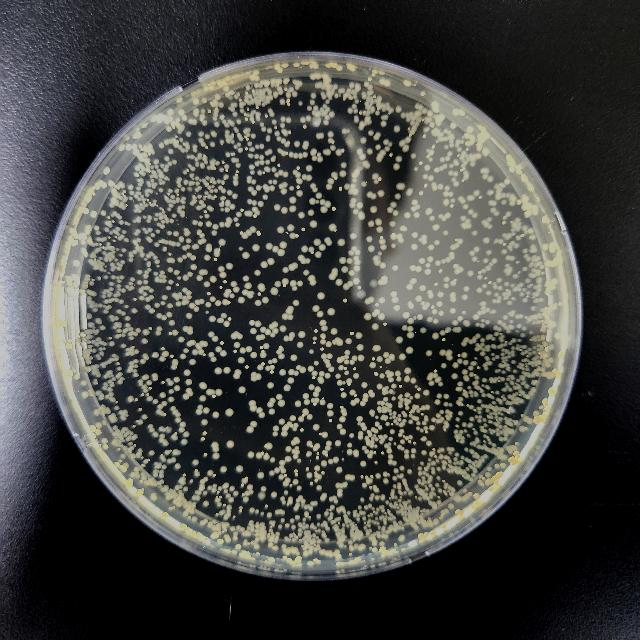colony: (356, 290, 366, 298), (372, 344, 382, 352), (478, 134, 487, 142), (170, 490, 178, 498), (289, 196, 297, 204), (108, 414, 116, 422), (432, 106, 440, 114), (482, 131, 490, 139), (352, 170, 360, 178), (112, 198, 120, 206), (548, 242, 556, 250), (462, 172, 470, 180), (437, 114, 445, 122), (313, 118, 321, 126), (431, 128, 439, 136), (406, 188, 414, 196), (150, 492, 158, 500), (84, 195, 92, 203), (212, 452, 220, 460), (129, 487, 137, 495), (542, 216, 550, 224), (467, 194, 475, 202), (210, 130, 218, 138), (265, 442, 273, 450), (258, 492, 266, 500), (482, 148, 490, 156), (369, 279, 377, 287), (396, 182, 404, 190), (90, 210, 98, 218), (250, 420, 258, 428), (246, 426, 254, 434), (199, 381, 207, 389), (482, 236, 490, 244), (226, 440, 234, 448), (225, 408, 233, 416), (358, 212, 366, 220), (324, 200, 332, 208), (310, 220, 318, 228), (329, 223, 337, 231), (349, 232, 357, 240), (338, 238, 346, 246), (313, 238, 321, 246), (277, 226, 285, 234), (238, 386, 246, 394), (262, 342, 270, 350), (223, 366, 231, 374), (214, 367, 222, 375), (312, 304, 320, 312), (316, 310, 324, 318), (238, 296, 246, 304), (254, 320, 262, 328), (274, 280, 282, 288), (270, 288, 278, 296), (242, 251, 250, 259), (252, 244, 260, 252), (218, 238, 226, 246), (320, 206, 328, 214), (277, 249, 285, 257), (242, 274, 250, 282), (244, 282, 252, 290), (226, 262, 234, 270), (406, 346, 414, 354), (398, 534, 406, 542), (345, 64, 355, 70), (542, 398, 548, 408), (225, 216, 232, 224), (469, 154, 476, 162), (370, 205, 378, 212), (522, 203, 530, 210), (170, 434, 178, 441), (165, 426, 172, 434), (66, 369, 74, 376), (235, 464, 242, 472), (425, 208, 433, 215), (339, 170, 346, 178), (392, 163, 400, 170), (248, 450, 255, 458), (377, 190, 385, 197), (308, 198, 316, 205), (289, 205, 297, 212), (318, 243, 326, 250), (223, 320, 230, 328), (272, 245, 280, 252), (277, 399, 285, 406), (326, 409, 334, 416), (388, 354, 396, 361), (356, 344, 364, 351), (404, 375, 411, 383), (398, 354, 406, 361), (215, 389, 222, 396), (183, 369, 190, 376), (464, 319, 471, 326), (407, 332, 415, 338), (510, 222, 518, 228), (272, 425, 280, 431), (396, 336, 402, 344), (352, 172, 358, 180), (216, 80, 224, 86), (529, 388, 535, 396), (366, 90, 374, 96), (193, 110, 199, 118), (188, 180, 194, 188), (421, 234, 427, 242), (158, 472, 164, 480), (356, 202, 364, 208), (110, 197, 118, 203), (545, 280, 551, 288), (414, 110, 422, 116), (378, 238, 386, 244), (552, 259, 560, 265), (544, 307, 552, 313), (546, 372, 554, 378), (172, 450, 180, 456), (550, 320, 556, 328), (112, 439, 120, 445), (372, 310, 378, 318), (296, 190, 304, 196), (390, 232, 396, 240), (481, 167, 489, 173), (211, 532, 219, 538), (488, 200, 496, 206), (178, 478, 186, 484), (530, 244, 536, 252), (192, 244, 200, 250), (508, 310, 516, 316), (548, 388, 556, 394), (458, 110, 466, 116), (280, 188, 288, 194), (323, 150, 331, 156), (448, 252, 456, 258), (206, 389, 214, 395), (90, 424, 96, 432), (110, 417, 118, 423), (336, 65, 344, 71), (462, 376, 470, 382), (403, 80, 411, 86), (524, 210, 530, 218), (363, 314, 371, 320), (126, 478, 134, 484), (118, 144, 124, 152), (528, 184, 534, 192), (134, 132, 142, 138), (142, 374, 150, 380), (310, 148, 316, 156), (384, 80, 392, 86), (392, 297, 400, 303), (486, 190, 494, 196), (432, 332, 438, 340), (372, 172, 378, 180), (404, 137, 412, 143), (352, 278, 360, 284), (364, 162, 370, 170), (378, 312, 384, 320), (402, 312, 410, 318), (330, 172, 338, 178), (402, 146, 410, 152), (443, 198, 449, 206), (432, 224, 440, 230), (390, 291, 398, 297), (404, 212, 412, 218), (143, 328, 149, 336), (192, 98, 200, 104), (329, 111, 335, 119), (406, 284, 414, 290), (180, 439, 188, 445), (394, 194, 402, 200), (418, 258, 426, 264), (486, 176, 494, 182), (398, 140, 406, 146), (182, 394, 190, 400), (152, 352, 160, 358), (284, 456, 292, 462), (192, 459, 200, 465), (168, 320, 176, 326), (220, 466, 228, 472), (306, 164, 312, 172), (361, 136, 367, 144), (212, 412, 220, 418), (368, 220, 374, 228), (320, 198, 326, 206), (282, 206, 288, 214), (274, 204, 280, 212), (258, 200, 264, 208), (288, 224, 294, 232), (314, 252, 322, 258), (312, 424, 320, 430), (303, 408, 309, 416), (290, 355, 298, 361), (296, 342, 304, 348), (298, 332, 306, 338), (330, 328, 338, 334), (280, 368, 286, 376), (288, 368, 294, 376), (300, 366, 306, 374), (288, 376, 294, 384), (284, 384, 290, 392), (250, 352, 258, 358), (278, 353, 286, 359), (220, 350, 228, 356), (250, 328, 258, 334), (265, 328, 271, 336), (292, 300, 300, 306), (319, 320, 327, 326), (320, 326, 328, 332), (262, 296, 268, 304), (254, 300, 262, 306), (220, 313, 228, 319), (248, 210, 254, 218), (266, 242, 272, 250), (279, 242, 287, 248), (250, 226, 256, 234), (242, 232, 248, 240), (254, 270, 262, 276), (260, 262, 268, 268), (267, 258, 275, 264), (230, 281, 238, 287), (298, 254, 304, 262), (234, 369, 242, 375), (295, 400, 301, 408), (258, 412, 266, 418), (257, 406, 263, 414), (250, 406, 258, 412), (248, 400, 256, 406), (314, 473, 322, 479), (334, 440, 342, 446), (338, 416, 346, 422), (356, 416, 364, 422), (376, 356, 384, 362), (384, 358, 392, 364), (358, 354, 364, 362), (422, 390, 430, 396), (404, 368, 412, 374), (526, 418, 534, 424), (555, 370, 561, 378), (222, 298, 228, 306), (426, 349, 432, 356), (479, 128, 486, 134), (509, 195, 516, 201), (550, 245, 556, 252), (349, 66, 356, 72), (183, 503, 190, 509), (78, 233, 85, 239), (508, 160, 514, 167), (399, 226, 406, 232), (175, 97, 182, 103), (354, 265, 361, 271), (379, 78, 385, 85), (394, 305, 401, 311), (474, 190, 481, 196), (419, 285, 426, 291), (542, 243, 548, 250), (409, 278, 416, 284), (328, 178, 334, 185), (379, 263, 386, 269), (104, 168, 110, 175), (178, 109, 185, 115), (190, 359, 197, 365), (359, 154, 366, 160), (185, 379, 192, 385), (389, 202, 396, 208), (439, 349, 445, 356), (200, 395, 207, 401), (394, 126, 401, 132), (308, 210, 314, 217), (302, 245, 308, 252), (319, 333, 326, 339), (238, 357, 245, 363), (256, 374, 262, 381), (218, 317, 225, 323), (246, 230, 252, 237), (339, 258, 346, 264), (233, 286, 240, 292), (233, 342, 240, 348), (369, 362, 376, 368), (474, 493, 481, 499), (219, 81, 225, 87), (179, 493, 185, 499), (376, 102, 382, 108), (141, 376, 147, 382), (145, 159, 151, 165), (314, 465, 320, 471), (138, 182, 144, 188), (434, 378, 440, 384), (80, 342, 86, 348), (468, 418, 474, 424), (426, 118, 432, 124), (161, 486, 167, 492), (438, 136, 444, 142), (152, 376, 158, 382), (90, 300, 96, 306), (496, 398, 502, 404), (110, 378, 116, 384), (180, 124, 186, 130), (356, 332, 362, 338), (224, 534, 230, 540), (87, 258, 93, 264), (320, 92, 326, 98), (454, 452, 460, 458), (224, 522, 230, 528), (412, 126, 418, 132), (523, 416, 529, 422), (342, 266, 348, 272), (292, 448, 298, 454), (519, 426, 525, 432), (153, 472, 159, 478), (120, 204, 126, 210), (248, 521, 254, 527), (472, 468, 478, 474), (384, 102, 390, 108), (525, 256, 531, 262), (173, 139, 179, 145), (294, 450, 300, 456), (424, 118, 430, 124), (531, 255, 537, 261), (506, 266, 512, 272), (328, 138, 334, 144), (138, 155, 144, 161), (487, 466, 493, 472), (465, 219, 471, 225), (551, 260, 557, 266), (184, 228, 190, 234), (210, 158, 216, 164), (197, 152, 203, 158), (526, 203, 532, 209), (144, 146, 150, 152), (152, 468, 158, 474), (148, 477, 154, 483), (294, 437, 300, 443), (92, 369, 98, 375), (164, 196, 170, 202), (128, 441, 134, 447), (147, 144, 153, 150), (68, 287, 74, 293), (114, 356, 120, 362), (191, 254, 197, 260), (142, 475, 148, 481), (245, 530, 251, 536), (229, 121, 235, 127), (260, 536, 266, 542), (173, 142, 179, 148), (228, 106, 234, 112), (130, 472, 136, 478), (179, 126, 185, 132), (82, 284, 88, 290), (98, 180, 104, 186), (270, 78, 276, 84), (295, 172, 301, 178), (169, 488, 175, 494), (276, 86, 282, 92), (66, 276, 72, 282), (325, 78, 331, 84), (263, 184, 269, 190), (128, 326, 134, 332), (242, 478, 248, 484), (239, 102, 245, 108), (480, 168, 486, 174), (262, 194, 268, 200), (432, 102, 438, 108), (117, 372, 123, 378), (469, 135, 475, 141), (409, 112, 415, 118), (119, 288, 125, 294), (281, 130, 287, 136), (352, 188, 358, 194), (121, 415, 127, 421), (370, 107, 376, 113), (142, 153, 148, 159), (110, 413, 116, 419), (284, 522, 290, 528), (376, 219, 382, 225), (532, 204, 538, 210), (456, 386, 462, 392), (288, 496, 294, 502), (84, 274, 90, 280), (106, 304, 112, 310), (104, 220, 110, 226), (219, 202, 225, 208), (498, 238, 504, 244), (518, 398, 524, 404), (545, 288, 551, 294), (530, 268, 536, 274), (182, 326, 188, 332), (123, 426, 129, 432), (264, 81, 270, 87), (366, 236, 372, 242), (528, 272, 534, 278), (166, 494, 172, 500), (375, 132, 381, 138), (156, 409, 162, 415), (200, 478, 206, 484), (79, 332, 85, 338), (170, 258, 176, 264), (146, 236, 152, 242), (202, 490, 208, 496), (189, 508, 195, 514), (232, 102, 238, 108), (186, 341, 192, 347), (115, 184, 121, 190), (166, 458, 172, 464), (368, 246, 374, 252), (198, 138, 204, 144), (550, 284, 556, 290), (422, 304, 428, 310), (231, 158, 237, 164), (254, 76, 260, 82), (188, 390, 194, 396), (536, 278, 542, 284), (365, 116, 371, 122), (510, 240, 516, 246), (486, 334, 492, 340), (436, 376, 442, 382), (528, 262, 534, 268), (100, 410, 106, 416), (558, 352, 564, 358), (536, 360, 542, 366), (316, 193, 322, 199), (456, 326, 462, 332), (208, 206, 214, 212), (182, 254, 188, 260), (418, 104, 424, 110), (312, 63, 318, 69), (353, 117, 359, 123), (315, 82, 321, 88), (476, 145, 482, 151), (199, 485, 205, 491), (355, 84, 361, 90), (473, 380, 479, 386), (94, 364, 100, 370), (375, 260, 381, 266), (381, 244, 387, 250), (509, 200, 515, 206), (476, 310, 482, 316), (268, 542, 274, 548), (326, 84, 332, 90), (516, 168, 522, 174), (402, 324, 408, 330), (530, 387, 536, 393), (369, 296, 375, 302), (164, 118, 170, 124), (458, 196, 464, 202), (458, 267, 464, 273), (80, 240, 86, 246), (102, 420, 108, 426), (436, 120, 442, 126), (533, 410, 539, 416), (298, 153, 304, 159), (212, 230, 218, 236), (194, 109, 200, 115), (323, 73, 329, 79), (116, 366, 122, 372), (407, 325, 413, 331), (90, 252, 96, 258), (454, 268, 460, 274), (532, 210, 538, 216), (212, 100, 218, 106), (182, 510, 188, 516), (316, 73, 322, 79), (349, 270, 355, 276), (135, 165, 141, 171), (200, 163, 206, 169), (324, 114, 330, 120), (217, 538, 223, 544), (254, 544, 260, 550), (456, 400, 462, 406), (143, 353, 149, 359), (138, 288, 144, 294), (72, 274, 78, 280), (224, 92, 230, 98), (453, 160, 459, 166), (450, 198, 456, 204), (249, 146, 255, 152), (148, 423, 154, 429), (508, 324, 514, 330), (382, 276, 388, 282), (408, 303, 414, 309), (468, 404, 474, 410), (377, 279, 383, 285), (230, 204, 236, 210), (138, 379, 144, 385), (118, 182, 124, 188), (154, 276, 160, 282), (544, 260, 550, 266), (274, 64, 280, 70), (488, 377, 494, 383), (270, 185, 276, 191), (288, 152, 294, 158), (116, 266, 122, 272), (264, 150, 270, 156), (224, 122, 230, 128), (525, 278, 531, 284), (156, 326, 162, 332), (499, 183, 505, 189), (238, 136, 244, 142), (502, 314, 508, 320), (236, 524, 242, 530), (180, 421, 186, 427), (425, 269, 431, 275), (244, 490, 250, 496), (417, 314, 423, 320), (74, 374, 80, 380), (338, 88, 344, 94), (277, 78, 283, 84), (365, 298, 371, 304), (152, 373, 158, 379), (264, 454, 270, 460), (88, 280, 94, 286), (278, 68, 284, 74), (186, 252, 192, 258), (390, 221, 396, 227), (476, 153, 482, 159), (233, 180, 239, 186), (188, 119, 194, 125), (159, 426, 165, 432), (450, 244, 456, 250), (224, 174, 230, 180), (482, 174, 488, 180), (174, 270, 180, 276), (461, 223, 467, 229), (274, 172, 280, 178), (73, 240, 79, 246), (388, 142, 394, 148), (303, 140, 309, 146), (213, 446, 219, 452), (226, 504, 232, 510), (220, 510, 226, 516), (284, 78, 290, 84), (136, 452, 142, 458), (387, 207, 393, 213), (144, 296, 150, 302), (187, 186, 193, 192), (306, 472, 312, 478), (290, 440, 296, 446), (523, 196, 529, 202), (436, 301, 442, 307), (94, 409, 100, 415), (306, 116, 312, 122), (150, 232, 156, 238), (200, 108, 206, 114), (270, 156, 276, 162), (156, 330, 162, 336), (302, 144, 308, 150), (200, 142, 206, 148), (173, 330, 179, 336), (278, 474, 284, 480), (138, 419, 144, 425), (197, 404, 203, 410), (134, 150, 140, 156), (180, 212, 186, 218), (186, 238, 192, 244), (103, 444, 109, 450), (266, 512, 272, 518), (429, 122, 435, 128), (250, 170, 256, 176), (410, 265, 416, 271), (109, 202, 115, 208), (279, 460, 285, 466), (134, 466, 140, 472), (326, 184, 332, 190), (134, 172, 140, 178), (190, 166, 196, 172), (416, 296, 422, 302), (105, 408, 111, 414), (367, 192, 373, 198), (163, 484, 169, 490), (96, 230, 102, 236), (212, 442, 218, 448), (356, 148, 362, 154), (96, 429, 102, 435), (147, 396, 153, 402), (292, 454, 298, 460), (228, 496, 234, 502), (407, 318, 413, 324), (450, 292, 456, 298), (157, 404, 163, 410), (458, 238, 464, 244), (341, 128, 347, 134), (99, 404, 105, 410), (285, 92, 291, 98), (86, 366, 92, 372), (284, 142, 290, 148), (141, 414, 147, 420), (349, 82, 355, 88), (175, 417, 181, 423), (552, 278, 558, 284), (522, 266, 528, 272), (438, 184, 444, 190), (486, 216, 492, 222), (154, 242, 160, 248), (104, 226, 110, 232), (446, 350, 452, 356), (132, 144, 138, 150), (223, 482, 229, 488), (212, 224, 218, 230), (453, 110, 459, 116), (95, 390, 101, 396), (462, 204, 468, 210), (540, 334, 546, 340), (422, 108, 428, 114), (178, 236, 184, 242), (530, 234, 536, 240), (140, 358, 146, 364), (376, 156, 382, 162), (379, 150, 385, 156), (522, 248, 528, 254), (116, 308, 122, 314), (528, 228, 534, 234), (251, 190, 257, 196), (520, 332, 526, 338), (278, 90, 284, 96), (392, 264, 398, 270), (168, 380, 174, 386), (509, 166, 515, 172), (164, 449, 170, 455), (224, 86, 230, 92), (516, 199, 522, 205), (460, 215, 466, 221), (200, 114, 206, 120), (468, 372, 474, 378), (126, 144, 132, 150), (154, 302, 160, 308), (306, 106, 312, 112), (146, 380, 152, 386), (215, 94, 221, 100), (463, 359, 469, 365), (373, 135, 379, 141), (554, 333, 560, 339), (486, 290, 492, 296), (172, 359, 178, 365), (206, 221, 212, 227), (112, 424, 118, 430), (344, 184, 350, 190), (311, 156, 317, 162), (283, 172, 289, 178), (280, 138, 286, 144), (438, 291, 444, 297), (306, 175, 312, 181), (393, 210, 399, 216), (427, 110, 433, 116), (445, 212, 451, 218), (84, 208, 90, 214), (149, 308, 155, 314), (296, 178, 302, 184), (486, 250, 492, 256), (108, 180, 114, 186), (374, 110, 380, 116), (247, 186, 253, 192), (166, 230, 172, 236), (162, 246, 168, 252), (310, 74, 316, 80), (285, 446, 291, 452), (400, 112, 406, 118), (457, 316, 463, 322), (74, 260, 80, 266), (88, 322, 94, 328), (160, 300, 166, 306), (384, 146, 390, 152), (171, 364, 177, 370), (271, 492, 277, 498), (182, 115, 188, 121), (164, 156, 170, 162), (204, 134, 210, 140), (506, 154, 512, 160), (162, 351, 168, 357), (424, 165, 430, 171), (164, 139, 170, 145), (178, 336, 184, 342), (450, 280, 456, 286), (416, 266, 422, 272), (166, 312, 172, 318), (412, 232, 418, 238), (474, 246, 480, 252), (202, 120, 208, 126), (379, 297, 385, 303), (260, 486, 266, 492), (438, 310, 444, 316), (145, 304, 151, 310), (82, 392, 88, 398), (434, 240, 440, 246), (461, 352, 467, 358), (149, 450, 155, 456), (276, 136, 282, 142), (249, 164, 255, 170), (196, 408, 202, 414), (464, 133, 470, 139), (472, 212, 478, 218), (372, 323, 378, 329), (413, 212, 419, 218), (280, 122, 286, 128), (128, 184, 134, 190), (81, 380, 87, 386), (492, 258, 498, 264), (448, 170, 454, 176), (162, 294, 168, 300), (302, 152, 308, 158), (450, 123, 456, 129), (381, 121, 387, 127), (428, 244, 434, 250), (467, 126, 473, 132), (101, 210, 107, 216), (162, 400, 168, 406), (256, 452, 262, 458), (163, 440, 169, 446), (227, 190, 233, 196), (412, 244, 418, 250), (166, 126, 172, 132), (142, 338, 148, 344), (207, 470, 213, 476), (159, 143, 165, 149), (160, 356, 166, 362), (192, 220, 198, 226), (472, 256, 478, 262), (462, 294, 468, 300), (269, 470, 275, 476), (218, 102, 224, 108), (280, 116, 286, 122), (168, 396, 174, 402), (310, 93, 316, 99), (256, 185, 262, 191), (323, 120, 329, 126), (96, 318, 102, 324), (210, 142, 216, 148), (132, 308, 138, 314), (450, 308, 456, 314), (180, 353, 186, 359), (330, 145, 336, 151), (174, 385, 180, 391), (473, 314, 479, 320), (347, 108, 353, 114), (328, 131, 334, 137), (294, 141, 300, 147), (440, 330, 446, 336), (468, 209, 474, 215), (427, 256, 433, 262), (341, 162, 347, 168), (452, 320, 458, 326), (444, 276, 450, 282), (96, 422, 102, 428), (472, 230, 478, 236), (128, 396, 134, 402), (174, 376, 180, 382), (336, 150, 342, 156), (504, 179, 510, 185), (469, 250, 475, 256), (183, 431, 189, 437), (464, 286, 470, 292), (368, 130, 374, 136), (396, 106, 402, 112), (452, 373, 458, 379), (201, 419, 207, 425), (452, 362, 458, 368), (467, 270, 473, 276), (203, 407, 209, 413), (258, 472, 264, 478), (396, 156, 402, 162), (300, 117, 306, 123), (160, 392, 166, 398), (168, 148, 174, 154), (353, 209, 359, 215), (298, 212, 304, 218), (252, 200, 258, 206), (252, 207, 258, 213), (309, 246, 315, 252), (289, 233, 295, 239), (337, 423, 343, 429), (340, 428, 346, 434), (322, 432, 328, 438), (307, 414, 313, 420), (298, 416, 304, 422), (290, 415, 296, 421), (279, 418, 285, 424), (307, 440, 313, 446), (321, 460, 327, 466), (328, 458, 334, 464), (333, 457, 339, 463), (326, 341, 332, 347), (312, 370, 318, 376), (308, 366, 314, 372), (319, 371, 325, 377), (325, 373, 331, 379), (328, 366, 334, 372), (321, 353, 327, 359), (338, 365, 344, 371), (337, 380, 343, 386), (341, 392, 347, 398), (350, 390, 356, 396), (198, 349, 204, 355), (294, 370, 300, 376), (296, 364, 302, 370), (268, 382, 274, 388), (258, 364, 264, 370), (272, 358, 278, 364), (240, 347, 246, 353), (246, 346, 252, 352), (260, 352, 266, 358), (211, 356, 217, 362), (209, 352, 215, 358), (216, 346, 222, 352), (270, 364, 276, 370), (251, 376, 257, 382), (283, 336, 289, 342), (260, 327, 266, 333), (260, 334, 266, 340), (280, 326, 286, 332), (282, 314, 288, 320), (288, 314, 294, 320), (249, 320, 255, 326), (282, 278, 288, 284), (290, 280, 296, 286), (297, 281, 303, 287), (292, 286, 298, 292), (204, 255, 210, 261), (225, 222, 231, 228), (362, 160, 368, 166), (349, 202, 355, 208), (324, 237, 330, 243), (326, 240, 332, 246), (303, 270, 309, 276), (282, 267, 288, 273), (242, 289, 248, 295), (300, 258, 306, 264), (272, 322, 278, 328), (268, 323, 274, 329), (270, 332, 276, 338), (272, 328, 278, 334), (277, 394, 283, 400), (304, 399, 310, 405), (303, 393, 309, 399), (327, 403, 333, 409), (320, 399, 326, 405), (315, 386, 321, 392), (309, 384, 315, 390), (270, 398, 276, 404), (268, 402, 274, 408), (269, 409, 275, 415), (300, 502, 306, 508), (342, 482, 348, 488), (336, 467, 342, 473), (345, 474, 351, 480), (350, 475, 356, 481), (347, 449, 353, 455), (383, 478, 389, 484), (375, 473, 381, 479), (360, 461, 366, 467), (382, 471, 388, 477), (364, 448, 370, 454), (326, 440, 332, 446), (340, 408, 346, 414), (374, 421, 380, 427), (370, 426, 376, 432), (386, 448, 392, 454), (351, 400, 357, 406), (377, 383, 383, 389), (380, 494, 386, 500), (346, 378, 352, 384), (344, 370, 350, 376), (362, 382, 368, 388), (383, 352, 389, 358), (346, 338, 352, 344), (337, 357, 343, 363), (388, 377, 394, 383), (303, 550, 309, 556), (410, 378, 416, 384), (429, 425, 435, 431), (426, 440, 432, 446), (414, 393, 420, 399), (404, 392, 410, 398), (404, 448, 410, 454), (414, 416, 420, 422), (402, 412, 408, 418), (466, 458, 472, 464), (396, 376, 402, 382), (395, 371, 401, 377), (500, 462, 506, 468), (513, 450, 519, 456), (448, 503, 454, 509), (498, 436, 504, 442), (212, 336, 218, 342), (209, 332, 215, 338), (186, 290, 192, 296), (195, 300, 201, 306), (294, 514, 300, 520), (360, 543, 366, 549), (366, 110, 372, 116), (322, 103, 328, 109), (226, 75, 232, 81), (186, 313, 192, 319), (194, 306, 200, 312), (189, 303, 195, 309), (506, 192, 510, 200), (212, 391, 216, 399), (370, 90, 374, 98), (308, 64, 316, 68), (330, 64, 338, 68), (376, 228, 384, 232), (372, 256, 380, 260), (380, 116, 388, 120), (312, 392, 320, 396), (546, 405, 550, 413), (354, 542, 358, 550), (224, 513, 232, 517), (424, 128, 431, 132), (233, 374, 240, 378), (354, 557, 361, 561), (522, 288, 528, 292), (469, 449, 475, 453), (148, 252, 154, 256), (352, 246, 356, 252), (270, 82, 276, 86), (444, 424, 450, 428), (350, 250, 354, 256), (540, 328, 546, 332), (488, 262, 494, 266), (516, 384, 520, 390), (176, 450, 182, 454), (210, 84, 214, 90), (485, 472, 491, 476), (126, 348, 130, 354), (189, 155, 195, 159), (198, 200, 204, 204), (90, 336, 94, 342), (240, 527, 244, 533), (427, 148, 431, 154), (462, 162, 468, 166), (137, 196, 141, 202), (284, 536, 288, 542), (194, 162, 200, 166), (482, 363, 488, 367), (102, 385, 108, 389), (86, 330, 92, 334), (410, 129, 414, 135), (222, 509, 228, 513), (291, 524, 295, 530), (459, 460, 463, 466), (147, 190, 153, 194), (320, 107, 324, 113), (88, 240, 92, 246), (544, 314, 550, 318), (502, 192, 506, 198), (348, 88, 352, 94), (145, 480, 149, 486), (144, 458, 148, 464), (144, 194, 150, 198), (118, 202, 124, 206), (128, 332, 134, 336), (99, 302, 103, 308), (68, 278, 72, 284), (532, 370, 538, 374), (106, 242, 112, 246), (474, 392, 480, 396), (226, 538, 232, 542), (190, 200, 194, 206), (94, 264, 98, 270), (382, 106, 386, 112), (366, 104, 370, 110), (462, 488, 468, 492), (444, 137, 450, 141), (484, 344, 490, 348), (462, 392, 468, 396), (410, 120, 414, 126), (180, 524, 186, 528), (260, 524, 266, 528), (154, 462, 160, 466), (196, 533, 202, 537), (439, 132, 443, 138), (270, 520, 274, 526), (444, 409, 450, 413), (236, 212, 242, 216), (506, 234, 512, 238), (397, 234, 403, 238), (161, 238, 165, 244), (94, 342, 100, 346), (533, 284, 537, 290), (542, 324, 546, 330), (158, 114, 164, 118), (260, 522, 266, 526), (102, 290, 108, 294), (161, 458, 167, 462), (119, 410, 123, 416), (432, 182, 436, 188), (290, 518, 294, 524), (112, 432, 118, 436), (152, 116, 156, 122), (306, 452, 312, 456), (208, 186, 212, 192), (104, 298, 108, 304), (134, 230, 138, 236), (224, 134, 230, 138), (108, 388, 114, 392), (88, 304, 94, 308), (432, 374, 438, 378), (130, 350, 134, 356), (247, 178, 251, 184), (124, 136, 130, 140), (230, 90, 234, 96), (354, 260, 360, 264), (246, 176, 252, 180), (510, 374, 514, 380), (86, 226, 92, 230), (498, 286, 504, 290), (107, 292, 111, 298), (300, 499, 306, 503), (206, 244, 212, 248), (273, 92, 279, 96), (218, 185, 224, 189), (116, 329, 122, 333), (519, 376, 525, 380), (364, 101, 370, 105), (158, 174, 164, 178), (352, 179, 358, 183), (446, 156, 450, 162), (130, 446, 134, 452), (112, 212, 118, 216), (162, 278, 166, 284), (350, 198, 356, 202), (458, 480, 462, 486), (298, 495, 304, 499), (164, 512, 168, 518), (130, 190, 134, 196), (192, 494, 196, 500), (378, 152, 382, 158), (172, 410, 178, 414), (195, 490, 201, 494), (132, 250, 138, 254), (208, 522, 212, 528), (380, 70, 384, 76), (243, 130, 249, 134), (108, 222, 112, 228), (192, 502, 196, 508), (468, 422, 472, 428), (212, 526, 218, 530), (495, 196, 501, 200), (518, 292, 524, 296), (172, 292, 176, 298), (513, 286, 517, 292), (462, 150, 466, 156), (194, 472, 200, 476), (66, 344, 72, 348), (136, 187, 142, 191), (388, 108, 394, 112), (366, 120, 372, 124), (474, 438, 480, 442), (274, 510, 280, 514), (356, 250, 360, 256), (88, 390, 94, 394), (282, 64, 288, 68), (531, 380, 537, 384), (254, 70, 260, 74), (204, 176, 210, 180), (522, 226, 528, 230), (202, 238, 206, 244), (420, 301, 426, 305), (348, 190, 354, 194), (129, 336, 135, 340), (194, 176, 200, 180), (414, 122, 420, 126), (144, 274, 148, 280), (302, 174, 306, 180), (92, 292, 98, 296), (466, 224, 472, 228), (200, 520, 204, 526), (174, 190, 180, 194), (138, 490, 144, 494), (170, 242, 176, 246), (552, 369, 558, 373), (126, 322, 130, 328), (362, 94, 366, 100), (446, 256, 450, 262), (62, 322, 68, 326), (86, 360, 92, 364), (454, 244, 460, 248), (182, 246, 188, 250), (152, 255, 158, 259), (170, 195, 176, 199), (236, 544, 242, 548), (92, 380, 98, 384), (122, 468, 128, 472), (250, 76, 256, 80), (146, 262, 152, 266), (157, 118, 163, 122), (128, 361, 134, 365), (110, 382, 114, 388), (266, 136, 270, 142), (134, 474, 140, 478), (135, 230, 141, 234), (491, 336, 495, 342), (521, 176, 527, 180), (137, 218, 141, 224), (184, 232, 190, 236), (168, 204, 174, 208), (316, 133, 320, 139), (94, 330, 100, 334), (282, 482, 288, 486), (115, 316, 119, 322), (480, 301, 486, 305), (224, 130, 230, 134), (256, 536, 260, 542), (493, 238, 497, 244), (212, 519, 218, 523), (186, 144, 190, 150), (230, 526, 236, 530), (154, 260, 160, 264), (167, 118, 173, 122), (390, 244, 396, 248), (182, 170, 188, 174), (488, 224, 492, 230), (281, 432, 287, 436), (449, 136, 455, 140), (142, 384, 146, 390), (233, 144, 237, 150), (192, 120, 198, 124), (472, 336, 476, 342), (204, 518, 208, 524), (442, 164, 448, 168), (374, 310, 380, 314), (504, 263, 510, 267), (146, 254, 152, 258), (230, 486, 236, 490), (316, 153, 322, 157), (426, 290, 432, 294), (490, 309, 496, 313), (334, 94, 340, 98), (313, 106, 319, 110), (148, 228, 154, 232), (105, 394, 109, 400), (462, 198, 466, 204), (139, 296, 145, 300), (178, 256, 182, 262), (200, 232, 204, 238), (142, 292, 148, 296), (224, 208, 230, 212), (326, 106, 330, 112), (204, 86, 208, 92), (510, 360, 516, 364), (174, 486, 180, 490), (368, 85, 372, 91), (310, 184, 316, 188), (430, 150, 434, 156), (322, 94, 326, 100), (222, 118, 226, 124), (420, 328, 426, 332), (453, 182, 459, 186), (132, 240, 138, 244), (452, 328, 458, 332), (292, 170, 298, 174), (474, 376, 480, 380), (100, 364, 106, 368), (278, 184, 284, 188), (481, 220, 487, 224), (462, 370, 468, 374), (114, 335, 120, 339), (212, 117, 218, 121), (458, 396, 462, 402), (192, 350, 198, 354), (542, 342, 548, 346), (274, 468, 280, 472), (248, 520, 254, 524), (414, 104, 420, 108), (296, 486, 302, 490), (358, 126, 364, 130), (147, 218, 151, 224), (192, 148, 198, 152), (488, 360, 492, 366), (548, 358, 554, 362), (98, 396, 104, 400), (248, 199, 252, 205), (122, 410, 128, 414), (167, 304, 173, 308), (436, 394, 442, 398), (398, 238, 404, 242), (166, 286, 172, 290), (220, 222, 224, 228), (463, 338, 469, 342), (504, 256, 510, 260), (482, 378, 488, 382), (267, 150, 273, 154), (470, 362, 476, 366), (514, 244, 520, 248), (140, 253, 146, 257), (218, 168, 224, 172), (480, 322, 484, 328), (179, 428, 185, 432), (137, 270, 143, 274), (176, 242, 182, 246), (92, 308, 98, 312), (196, 230, 202, 234), (254, 82, 258, 88), (170, 406, 176, 410), (412, 206, 416, 212), (494, 212, 500, 216), (292, 80, 298, 84), (81, 248, 87, 252), (383, 140, 389, 144), (501, 250, 507, 254), (255, 144, 259, 150), (512, 274, 518, 278), (96, 184, 100, 190), (312, 188, 318, 192), (260, 122, 264, 128), (102, 438, 108, 442), (134, 372, 138, 378), (354, 100, 360, 104), (254, 154, 260, 158), (456, 148, 462, 152), (447, 356, 453, 360), (350, 184, 356, 188), (484, 356, 490, 360), (293, 63, 299, 67), (186, 388, 192, 392), (270, 112, 274, 118), (550, 344, 554, 350), (184, 348, 188, 354), (318, 156, 322, 162), (216, 502, 222, 506), (438, 382, 444, 386), (490, 208, 496, 212), (136, 328, 142, 332), (492, 326, 498, 330), (530, 306, 536, 310), (456, 416, 460, 422), (476, 399, 482, 403), (450, 298, 456, 302), (334, 84, 338, 90), (522, 298, 528, 302), (364, 82, 370, 86), (506, 212, 512, 216), (96, 373, 102, 377), (102, 183, 106, 189), (514, 218, 520, 222), (478, 274, 482, 280), (290, 86, 294, 92), (272, 432, 278, 436), (482, 284, 488, 288), (458, 358, 462, 364), (282, 182, 288, 186), (260, 154, 264, 160), (468, 366, 474, 370), (448, 164, 454, 168), (236, 162, 240, 168), (104, 274, 108, 280), (422, 175, 428, 179), (215, 160, 219, 166), (104, 308, 108, 314), (148, 289, 154, 293), (378, 96, 382, 102), (428, 294, 434, 298), (192, 516, 196, 522), (220, 196, 226, 200), (278, 170, 284, 174), (501, 200, 507, 204), (516, 324, 522, 328), (470, 162, 476, 166), (474, 347, 480, 351), (372, 194, 376, 200), (234, 490, 238, 496), (202, 98, 206, 104), (484, 258, 488, 264), (428, 316, 432, 322), (258, 170, 262, 176), (118, 300, 124, 304), (136, 280, 142, 284), (448, 192, 454, 196), (272, 180, 278, 184), (128, 258, 134, 262), (198, 222, 204, 226), (282, 468, 286, 474), (237, 148, 243, 152), (444, 186, 450, 190), (206, 486, 212, 490), (152, 432, 158, 436), (262, 126, 266, 132), (204, 500, 208, 506), (124, 462, 128, 468), (120, 454, 126, 458), (114, 406, 120, 410), (154, 160, 160, 164), (84, 252, 88, 258), (458, 410, 462, 416), (429, 216, 435, 220), (220, 114, 224, 120), (496, 320, 502, 324), (168, 280, 174, 284), (432, 186, 438, 190), (184, 486, 188, 492), (172, 160, 178, 164), (244, 496, 248, 502), (130, 278, 136, 282), (173, 232, 179, 236), (278, 148, 282, 154), (198, 132, 204, 136), (272, 166, 276, 172), (432, 310, 438, 314), (248, 484, 252, 490), (274, 131, 280, 135), (412, 200, 418, 204), (270, 458, 276, 462), (222, 188, 226, 194), (232, 112, 238, 116), (175, 464, 181, 468), (496, 278, 502, 282), (168, 268, 174, 272), (410, 154, 416, 158), (196, 206, 202, 210), (169, 388, 173, 394), (268, 128, 272, 134), (292, 92, 298, 96), (134, 349, 140, 353), (154, 398, 158, 404), (260, 144, 264, 150), (162, 464, 166, 470), (444, 230, 448, 236), (168, 110, 174, 114), (121, 344, 127, 348), (86, 314, 92, 318), (94, 226, 100, 230), (260, 160, 264, 166), (214, 122, 220, 126), (428, 176, 434, 180), (232, 194, 238, 198), (444, 394, 450, 398), (204, 214, 210, 218), (476, 288, 482, 292), (286, 118, 292, 122), (100, 326, 106, 330), (186, 132, 192, 136), (436, 260, 440, 266), (309, 100, 315, 104), (156, 314, 162, 318), (280, 99, 284, 105), (248, 154, 254, 158), (368, 148, 372, 154), (236, 120, 242, 124), (376, 144, 380, 150), (256, 210, 260, 216), (306, 258, 310, 264), (292, 427, 298, 431), (320, 340, 326, 344), (332, 339, 336, 345), (314, 360, 318, 366), (326, 363, 332, 367), (324, 360, 330, 364), (328, 353, 332, 359), (308, 350, 314, 354), (312, 337, 318, 341), (70, 227, 74, 233), (144, 270, 150, 274), (176, 302, 182, 306), (192, 339, 196, 345), (187, 330, 193, 334), (251, 372, 257, 376), (276, 350, 282, 354), (278, 348, 284, 352), (289, 332, 295, 336), (256, 335, 260, 341), (239, 246, 243, 252), (244, 211, 248, 217), (236, 222, 240, 228), (320, 132, 324, 138), (348, 258, 352, 264), (229, 294, 235, 298), (315, 397, 319, 403), (316, 486, 322, 490), (314, 500, 318, 506), (310, 500, 314, 506), (287, 500, 293, 504), (296, 502, 300, 508), (215, 498, 221, 502), (330, 504, 334, 510), (324, 510, 328, 516), (308, 506, 314, 510), (304, 504, 308, 510), (322, 492, 326, 498), (320, 496, 326, 500), (329, 496, 333, 502), (347, 510, 351, 516), (328, 512, 334, 516), (337, 493, 343, 497), (337, 488, 343, 492), (336, 482, 340, 488), (339, 482, 343, 488), (348, 442, 352, 448), (362, 482, 366, 488), (373, 488, 379, 492), (364, 504, 368, 510), (392, 476, 398, 480), (389, 436, 393, 442), (325, 446, 331, 450), (322, 450, 328, 454), (342, 412, 348, 416), (360, 422, 366, 426), (358, 434, 362, 440), (358, 431, 364, 435), (378, 424, 382, 430), (374, 428, 378, 434), (367, 454, 373, 458), (392, 460, 396, 466), (388, 454, 394, 458), (384, 444, 390, 448), (354, 398, 360, 402), (360, 402, 366, 406), (362, 398, 368, 402), (363, 394, 369, 398), (298, 532, 302, 538), (375, 494, 379, 500), (361, 426, 367, 430), (353, 374, 359, 378), (344, 350, 350, 354), (344, 355, 350, 359), (352, 356, 358, 360), (340, 356, 346, 360), (391, 384, 397, 388), (381, 400, 385, 406), (384, 396, 388, 402), (370, 392, 374, 398), (368, 390, 374, 394), (386, 374, 392, 378), (389, 388, 393, 394), (307, 561, 313, 565), (308, 550, 314, 554), (324, 538, 330, 542), (278, 508, 282, 514), (359, 510, 363, 516), (420, 406, 426, 410), (426, 404, 430, 410), (434, 400, 440, 404), (436, 412, 440, 418), (430, 418, 436, 422), (409, 434, 413, 440), (422, 436, 426, 442), (408, 420, 414, 424), (412, 448, 416, 454), (404, 454, 410, 458), (398, 444, 402, 450), (400, 440, 406, 444), (399, 429, 405, 433), (408, 468, 412, 474), (394, 468, 398, 474), (418, 470, 422, 476), (438, 488, 442, 494), (464, 456, 468, 462), (468, 464, 474, 468), (399, 473, 403, 479), (494, 464, 500, 468), (489, 486, 493, 492), (441, 524, 447, 528), (478, 475, 484, 479), (478, 344, 482, 350), (514, 420, 518, 426), (537, 366, 541, 372), (474, 500, 478, 506), (379, 542, 385, 546), (372, 548, 378, 552), (282, 555, 288, 559), (286, 558, 292, 562), (268, 557, 274, 561), (390, 549, 396, 553), (401, 547, 407, 551), (312, 532, 316, 538), (316, 539, 322, 543), (288, 421, 292, 427), (188, 271, 192, 277), (382, 281, 388, 285), (154, 165, 160, 169), (158, 216, 164, 220), (186, 296, 192, 300), (182, 288, 188, 292), (200, 299, 204, 305), (169, 138, 173, 144), (204, 183, 210, 187), (194, 188, 200, 192), (336, 554, 342, 558), (350, 546, 354, 552), (358, 545, 362, 551), (436, 500, 442, 504), (362, 110, 366, 116), (234, 94, 238, 100), (280, 152, 286, 156), (246, 132, 250, 138), (226, 138, 230, 144), (230, 134, 234, 140), (214, 109, 220, 113), (213, 113, 219, 117), (168, 240, 172, 246), (136, 217, 142, 220), (188, 326, 194, 329), (256, 530, 260, 534), (498, 296, 502, 300), (204, 208, 208, 212), (515, 401, 519, 405), (494, 421, 498, 425), (198, 194, 202, 198), (171, 122, 175, 126), (162, 220, 166, 224), (247, 525, 251, 529), (518, 364, 522, 368), (508, 342, 512, 346), (103, 381, 107, 385), (243, 539, 247, 543), (274, 545, 278, 549), (138, 180, 142, 184), (508, 409, 512, 413), (466, 404, 470, 408), (499, 338, 503, 342), (442, 216, 446, 220), (159, 438, 163, 442), (286, 478, 290, 482), (484, 454, 488, 458), (497, 299, 501, 303), (172, 200, 176, 204), (532, 358, 536, 362), (156, 264, 160, 268), (477, 444, 481, 448), (178, 130, 182, 134), (198, 186, 202, 190), (539, 405, 543, 409), (250, 490, 254, 494), (236, 159, 240, 163), (541, 372, 545, 376), (256, 522, 260, 526), (282, 500, 286, 504), (224, 516, 228, 520), (506, 290, 510, 294), (461, 439, 465, 443), (114, 258, 118, 262), (182, 498, 186, 502), (203, 155, 207, 159), (512, 232, 516, 236), (462, 390, 466, 394), (512, 385, 516, 389), (160, 411, 164, 415), (511, 409, 515, 413), (496, 397, 500, 401), (108, 258, 112, 262), (481, 269, 485, 273), (532, 350, 536, 354), (240, 208, 244, 212), (478, 480, 482, 484), (184, 149, 188, 153), (133, 368, 137, 372), (516, 379, 520, 383), (449, 411, 453, 415), (508, 395, 512, 399), (528, 318, 532, 322), (154, 182, 158, 186), (103, 251, 107, 255), (116, 374, 120, 378), (111, 318, 115, 322), (146, 393, 150, 397), (106, 360, 110, 364), (92, 278, 96, 282), (406, 118, 410, 122), (529, 337, 533, 341), (192, 92, 196, 96), (68, 282, 72, 286), (97, 247, 101, 251), (133, 219, 137, 223), (111, 246, 115, 250), (196, 496, 200, 500), (281, 510, 285, 514), (492, 299, 496, 303), (182, 205, 186, 209), (194, 469, 198, 473), (134, 209, 138, 213), (88, 290, 92, 294), (262, 103, 266, 107), (310, 481, 314, 485), (516, 314, 520, 318), (295, 445, 299, 449), (558, 302, 562, 306), (164, 168, 168, 172), (459, 430, 463, 434), (142, 172, 146, 176), (350, 331, 354, 335), (469, 441, 473, 445), (176, 199, 180, 203), (143, 227, 147, 231), (116, 362, 120, 366), (157, 482, 161, 486), (477, 271, 481, 275), (507, 329, 511, 333), (506, 272, 510, 276), (536, 271, 540, 275), (228, 96, 232, 100), (92, 192, 96, 196), (138, 192, 142, 196), (178, 208, 182, 212), (499, 417, 503, 421), (104, 258, 108, 262), (116, 430, 120, 434), (505, 401, 509, 405), (461, 135, 465, 139), (477, 406, 481, 410), (123, 190, 127, 194), (138, 144, 142, 148), (519, 314, 523, 318), (168, 258, 172, 262), (110, 263, 114, 267), (460, 455, 464, 459), (542, 367, 546, 371), (123, 446, 127, 450), (186, 155, 190, 159), (104, 374, 108, 378), (86, 230, 90, 234), (231, 140, 235, 144), (237, 143, 241, 147), (137, 238, 141, 242), (349, 96, 353, 100), (534, 299, 538, 303), (187, 164, 191, 168), (289, 483, 293, 487), (104, 342, 108, 346), (98, 356, 102, 360), (439, 214, 443, 218), (151, 150, 155, 154), (181, 200, 185, 204), (488, 394, 492, 398), (164, 176, 168, 180), (110, 316, 114, 320), (312, 111, 316, 115), (96, 237, 100, 241), (136, 208, 140, 212), (115, 462, 119, 466), (326, 64, 330, 68), (519, 283, 523, 287), (140, 246, 144, 250), (498, 188, 502, 192), (450, 144, 454, 148), (515, 329, 519, 333), (452, 177, 456, 181), (224, 490, 228, 494), (111, 267, 115, 271), (506, 367, 510, 371), (134, 364, 138, 368), (430, 381, 434, 385), (526, 395, 530, 399), (469, 390, 473, 394), (132, 454, 136, 458), (102, 295, 106, 299), (128, 368, 132, 372), (237, 133, 241, 137), (463, 428, 467, 432), (221, 180, 225, 184), (295, 473, 299, 477), (252, 110, 256, 114), (296, 185, 300, 189), (546, 363, 550, 367), (257, 112, 261, 116), (269, 528, 273, 532), (177, 177, 181, 181), (464, 394, 468, 398), (440, 166, 444, 170), (510, 228, 514, 232), (132, 424, 136, 428), (123, 329, 127, 333), (111, 275, 115, 279), (140, 158, 144, 162), (202, 204, 206, 208), (360, 122, 364, 126), (282, 544, 286, 548), (192, 195, 196, 199), (128, 281, 132, 285), (215, 189, 219, 193), (522, 326, 526, 330), (294, 506, 298, 510), (154, 461, 158, 465), (468, 340, 472, 344), (118, 322, 122, 326), (118, 216, 122, 220), (123, 198, 127, 202), (122, 230, 126, 234), (354, 256, 358, 260), (502, 221, 506, 225), (341, 148, 345, 152), (167, 208, 171, 212), (125, 352, 129, 356), (276, 531, 280, 535), (485, 409, 489, 413), (198, 240, 202, 244), (211, 177, 215, 181), (484, 366, 488, 370), (212, 489, 216, 493), (166, 378, 170, 382), (182, 196, 186, 200), (373, 69, 377, 73), (516, 260, 520, 264), (93, 349, 97, 353), (522, 381, 526, 385), (422, 240, 426, 244), (154, 217, 158, 221), (539, 298, 543, 302), (112, 354, 116, 358), (130, 286, 134, 290), (176, 118, 180, 122), (260, 511, 264, 515), (516, 226, 520, 230), (100, 352, 104, 356), (160, 479, 164, 483), (234, 128, 238, 132), (422, 134, 426, 138), (281, 518, 285, 522), (508, 246, 512, 250), (493, 285, 497, 289), (145, 286, 149, 290), (234, 532, 238, 536), (240, 483, 244, 487), (204, 191, 208, 195), (511, 283, 515, 287), (181, 148, 185, 152), (148, 239, 152, 243), (144, 230, 148, 234), (112, 325, 116, 329), (517, 338, 521, 342), (284, 87, 288, 91), (378, 251, 382, 255), (511, 297, 515, 301), (68, 339, 72, 343), (510, 256, 514, 260), (134, 360, 138, 364), (177, 412, 181, 416), (486, 266, 490, 270), (142, 464, 146, 468), (290, 533, 294, 537), (125, 285, 129, 289), (217, 179, 221, 183), (502, 233, 506, 237), (465, 447, 469, 451), (187, 245, 191, 249), (442, 259, 446, 263), (195, 182, 199, 186), (177, 276, 181, 280), (498, 328, 502, 332), (155, 213, 159, 217), (416, 205, 420, 209), (444, 192, 448, 196), (278, 525, 282, 529), (503, 216, 507, 220), (246, 128, 250, 132), (454, 429, 458, 433), (494, 293, 498, 297), (294, 154, 298, 158), (168, 331, 172, 335), (444, 129, 448, 133), (439, 409, 443, 413), (481, 319, 485, 323), (500, 377, 504, 381), (495, 355, 499, 359), (339, 187, 343, 191), (434, 282, 438, 286), (212, 394, 216, 398), (298, 82, 302, 86), (501, 370, 505, 374), (540, 265, 544, 269), (288, 130, 292, 134), (112, 398, 116, 402), (480, 352, 484, 356), (257, 117, 261, 121), (150, 428, 154, 432), (264, 504, 268, 508), (491, 352, 495, 356), (148, 215, 152, 219), (474, 431, 478, 435), (160, 163, 164, 167), (135, 204, 139, 208), (179, 138, 183, 142), (516, 236, 520, 240), (462, 310, 466, 314), (362, 182, 366, 186), (502, 387, 506, 391), (121, 333, 125, 337), (326, 100, 330, 104), (157, 222, 161, 226), (234, 536, 238, 540), (220, 140, 224, 144), (492, 345, 496, 349), (290, 186, 294, 190), (226, 494, 230, 498), (184, 180, 188, 184), (494, 184, 498, 188), (255, 509, 259, 513), (226, 200, 230, 204), (110, 282, 114, 286), (150, 295, 154, 299), (448, 152, 452, 156), (357, 285, 361, 289), (281, 497, 285, 501), (508, 300, 512, 304), (110, 392, 114, 396), (119, 220, 123, 224), (204, 477, 208, 481), (378, 177, 382, 181), (161, 347, 165, 351), (462, 422, 466, 426), (245, 147, 249, 151), (295, 85, 299, 89), (108, 370, 112, 374), (498, 363, 502, 367), (486, 385, 490, 389), (368, 77, 372, 81), (462, 342, 466, 346), (110, 287, 114, 291), (193, 144, 197, 148), (160, 434, 164, 438), (234, 176, 238, 180), (529, 330, 533, 334), (491, 357, 495, 361), (294, 480, 298, 484), (523, 345, 527, 349), (475, 322, 479, 326), (96, 338, 100, 342), (144, 280, 148, 284), (480, 338, 484, 342), (189, 479, 193, 483), (296, 166, 300, 170), (512, 338, 516, 342), (266, 160, 270, 164), (170, 219, 174, 223), (138, 448, 142, 452), (118, 380, 122, 384), (117, 284, 121, 288), (161, 271, 165, 275), (134, 434, 138, 438), (494, 332, 498, 336), (266, 168, 270, 172), (454, 172, 458, 176), (168, 189, 172, 193), (246, 85, 250, 89), (248, 142, 252, 146), (122, 248, 126, 252), (264, 114, 268, 118), (159, 188, 163, 192), (116, 227, 120, 231), (154, 271, 158, 275), (354, 109, 358, 113), (284, 491, 288, 495), (225, 164, 229, 168), (470, 417, 474, 421), (121, 260, 125, 264), (374, 180, 378, 184), (419, 191, 423, 195), (110, 342, 114, 346), (203, 453, 207, 457), (439, 269, 443, 273), (190, 173, 194, 177), (268, 180, 272, 184), (201, 437, 205, 441), (513, 369, 517, 373), (161, 225, 165, 229), (268, 109, 272, 113), (482, 393, 486, 397), (156, 230, 160, 234), (495, 390, 499, 394), (124, 238, 128, 242), (525, 384, 529, 388), (444, 402, 448, 406), (414, 167, 418, 171), (449, 204, 453, 208), (120, 275, 124, 279), (252, 180, 256, 184), (297, 459, 301, 463), (162, 316, 166, 320), (213, 484, 217, 488), (122, 311, 126, 315), (203, 431, 207, 435), (454, 264, 458, 268), (428, 157, 432, 161), (446, 328, 450, 332), (426, 263, 430, 267), (172, 458, 176, 462), (458, 382, 462, 386), (440, 158, 444, 162), (168, 162, 172, 166), (172, 214, 176, 218), (255, 162, 259, 166), (181, 187, 185, 191), (421, 92, 425, 96), (504, 282, 508, 286), (419, 161, 423, 165), (126, 316, 130, 320), (486, 320, 490, 324), (240, 109, 244, 113), (250, 508, 254, 512), (434, 168, 438, 172), (444, 284, 448, 288), (434, 319, 438, 323), (444, 145, 448, 149), (352, 104, 356, 108), (298, 101, 302, 105), (476, 334, 480, 338), (272, 120, 276, 124), (226, 152, 230, 156), (442, 364, 446, 368), (251, 134, 255, 138), (331, 207, 335, 211), (253, 214, 257, 218), (301, 227, 305, 231), (300, 428, 304, 432), (294, 423, 298, 427), (290, 424, 294, 428), (323, 358, 327, 362), (336, 374, 340, 378), (342, 381, 346, 385), (314, 329, 318, 333), (130, 254, 134, 258), (144, 257, 148, 261), (141, 207, 145, 211), (162, 181, 166, 185), (158, 178, 162, 182), (178, 184, 182, 188), (150, 178, 154, 182), (147, 181, 151, 185), (147, 184, 151, 188), (92, 243, 96, 247), (148, 268, 152, 272), (134, 332, 138, 336), (245, 365, 249, 369), (261, 362, 265, 366), (268, 360, 272, 364), (260, 346, 264, 350), (220, 341, 224, 345), (266, 366, 270, 370), (289, 337, 293, 341), (257, 292, 261, 296), (234, 218, 238, 222), (334, 176, 338, 180), (311, 398, 315, 402), (314, 478, 318, 482), (296, 498, 300, 502), (218, 486, 222, 490), (317, 514, 321, 518), (302, 517, 306, 521), (298, 522, 302, 526), (333, 495, 337, 499), (334, 499, 338, 503), (316, 522, 320, 526), (373, 485, 377, 489), (371, 493, 375, 497), (369, 496, 373, 500), (360, 498, 364, 502), (358, 505, 362, 509), (368, 504, 372, 508), (385, 500, 389, 504), (362, 446, 366, 450), (374, 444, 378, 448), (375, 437, 379, 441), (388, 442, 392, 446), (384, 434, 388, 438), (350, 434, 354, 438), (370, 450, 374, 454), (388, 460, 392, 464), (380, 440, 384, 444), (390, 430, 394, 434), (386, 422, 390, 426), (393, 411, 397, 415), (392, 415, 396, 419), (363, 526, 367, 530), (348, 552, 352, 556), (298, 528, 302, 532), (305, 524, 309, 528), (393, 484, 397, 488), (370, 440, 374, 444), (370, 444, 374, 448), (344, 360, 348, 364), (350, 360, 354, 364), (374, 372, 378, 376), (380, 374, 384, 378), (392, 396, 396, 400), (356, 517, 360, 521), (362, 516, 366, 520), (342, 523, 346, 527), (385, 402, 389, 406), (388, 404, 392, 408), (386, 370, 390, 374), (390, 372, 394, 376), (365, 436, 369, 440), (300, 544, 304, 548), (314, 558, 318, 562), (316, 544, 320, 548), (314, 547, 318, 551), (320, 523, 324, 527), (381, 508, 385, 512), (353, 513, 357, 517), (362, 511, 366, 515), (374, 511, 378, 515), (398, 384, 402, 388), (414, 385, 418, 389), (382, 391, 386, 395), (382, 387, 386, 391), (424, 426, 428, 430), (416, 426, 420, 430), (420, 428, 424, 432), (409, 396, 413, 400), (404, 398, 408, 402), (408, 399, 412, 403), (405, 406, 409, 410), (409, 414, 413, 418), (416, 421, 420, 425), (422, 421, 426, 425), (424, 418, 428, 422), (424, 414, 428, 418), (440, 417, 444, 421), (443, 425, 447, 429), (444, 421, 448, 425), (446, 447, 450, 451), (435, 459, 439, 463), (437, 449, 441, 453), (441, 448, 445, 452), (422, 450, 426, 454), (411, 454, 415, 458), (401, 447, 405, 451), (398, 433, 402, 437), (397, 414, 401, 418), (398, 418, 402, 422), (400, 466, 404, 470), (394, 495, 398, 499), (398, 520, 402, 524), (418, 466, 422, 470), (436, 476, 440, 480), (435, 483, 439, 487), (428, 484, 432, 488), (431, 487, 435, 491), (444, 492, 448, 496), (454, 457, 458, 461), (412, 416, 416, 420), (416, 409, 420, 413), (411, 409, 415, 413), (402, 419, 406, 423), (395, 422, 399, 426), (393, 419, 397, 423), (388, 408, 392, 412), (415, 484, 419, 488), (425, 473, 429, 477), (422, 471, 426, 475), (431, 467, 435, 471), (431, 470, 435, 474), (437, 467, 441, 471), (448, 460, 452, 464), (474, 452, 478, 456), (472, 454, 476, 458), (476, 455, 480, 459), (466, 467, 470, 471), (422, 475, 426, 479), (482, 418, 486, 422), (474, 415, 478, 419), (477, 410, 481, 414), (488, 420, 492, 424), (488, 428, 492, 432), (492, 429, 496, 433), (496, 432, 500, 436), (496, 428, 500, 432), (445, 414, 449, 418), (446, 417, 450, 421), (480, 483, 484, 487), (493, 485, 497, 489), (494, 480, 498, 484), (516, 454, 520, 458), (542, 408, 546, 412), (501, 348, 505, 352), (500, 352, 504, 356), (501, 356, 505, 360), (505, 350, 509, 354), (511, 346, 515, 350), (516, 347, 520, 351), (480, 342, 484, 346), (475, 343, 479, 347), (481, 348, 485, 352), (486, 348, 490, 352), (532, 346, 536, 350), (537, 344, 541, 348), (520, 358, 524, 362), (504, 382, 508, 386), (480, 404, 484, 408), (504, 416, 508, 420), (499, 425, 503, 429), (503, 424, 507, 428), (508, 418, 512, 422), (503, 437, 507, 441), (492, 443, 496, 447), (499, 430, 503, 434), (527, 284, 531, 288), (526, 291, 530, 295), (521, 352, 525, 356), (524, 350, 528, 354), (528, 352, 532, 356), (504, 343, 508, 347), (500, 343, 504, 347), (296, 551, 300, 555), (394, 550, 398, 554), (384, 534, 388, 538), (381, 534, 385, 538), (383, 518, 387, 522), (403, 491, 407, 495), (315, 536, 319, 540), (292, 538, 296, 542), (207, 292, 211, 296), (152, 170, 156, 174), (150, 166, 154, 170), (157, 169, 161, 173), (163, 214, 167, 218), (205, 310, 209, 314), (202, 178, 206, 182), (185, 141, 189, 145), (172, 138, 176, 142), (140, 148, 144, 152), (204, 181, 208, 185), (243, 542, 247, 546), (287, 538, 291, 542), (349, 544, 353, 548), (407, 499, 411, 503), (426, 509, 430, 513), (422, 508, 426, 512), (525, 368, 529, 372), (362, 91, 366, 95), (238, 98, 242, 102), (230, 79, 234, 83), (274, 126, 278, 130), (165, 240, 169, 244), (114, 322, 118, 326), (124, 328, 128, 332), (130, 347, 134, 351), (160, 455, 164, 459), (503, 269, 507, 273), (524, 254, 528, 258), (492, 401, 496, 404), (177, 282, 180, 286), (102, 346, 106, 349), (112, 220, 116, 223), (511, 220, 514, 224), (426, 155, 429, 159), (222, 161, 225, 165), (170, 354, 173, 358), (220, 208, 223, 212), (122, 376, 125, 380), (168, 252, 172, 255), (474, 356, 478, 359), (148, 326, 152, 329), (125, 305, 128, 309), (316, 456, 320, 459), (312, 376, 316, 379), (95, 242, 98, 246), (270, 371, 274, 374), (256, 230, 260, 233), (257, 232, 261, 235), (374, 461, 378, 464), (371, 474, 374, 478), (361, 474, 364, 478), (376, 521, 379, 525), (385, 386, 389, 389), (346, 524, 349, 528), (353, 511, 357, 514), (424, 431, 428, 434), (421, 412, 424, 416), (421, 461, 424, 465), (401, 411, 405, 414), (474, 461, 478, 464), (396, 474, 399, 478), (504, 356, 508, 359), (511, 351, 515, 354), (501, 412, 504, 416), (387, 552, 393, 554), (290, 562, 296, 564), (247, 542, 250, 546), (396, 506, 400, 509), (456, 154, 459, 158), (247, 108, 250, 112), (226, 510, 232, 512), (115, 401, 118, 404), (476, 366, 479, 369), (122, 192, 125, 195), (172, 125, 175, 128), (502, 394, 504, 398), (208, 166, 210, 170), (219, 494, 221, 498), (426, 304, 430, 306), (188, 516, 192, 518), (195, 490, 199, 492), (347, 130, 351, 132), (262, 172, 266, 174), (238, 92, 240, 96), (504, 242, 506, 246), (116, 276, 120, 278), (474, 408, 476, 412), (342, 98, 346, 100), (128, 222, 130, 226), (451, 448, 455, 450), (112, 240, 116, 242), (408, 127, 410, 131), (214, 195, 216, 199), (360, 111, 362, 115), (129, 252, 133, 254), (435, 140, 439, 142), (462, 158, 464, 162), (512, 420, 516, 422), (242, 493, 244, 497), (233, 152, 235, 156), (456, 424, 458, 428), (468, 433, 470, 437), (494, 370, 498, 372), (344, 298, 346, 302), (528, 348, 532, 350), (119, 254, 123, 256), (118, 460, 122, 462), (498, 345, 500, 349), (521, 234, 525, 236), (164, 412, 166, 416), (125, 222, 129, 224), (441, 338, 445, 340), (115, 248, 119, 250), (142, 392, 144, 396), (450, 402, 452, 406), (478, 196, 482, 198), (520, 414, 524, 416), (130, 196, 132, 200), (118, 279, 120, 283), (431, 306, 435, 308), (294, 470, 298, 472), (376, 302, 378, 306), (108, 215, 110, 219), (467, 386, 471, 388), (478, 419, 480, 423), (216, 512, 218, 516), (424, 184, 426, 188), (371, 74, 375, 76), (154, 199, 156, 203), (138, 408, 142, 410), (332, 140, 334, 144), (488, 282, 492, 284), (458, 354, 460, 358), (432, 145, 434, 149), (384, 322, 386, 326), (305, 468, 309, 470), (97, 278, 101, 280), (208, 110, 212, 112), (316, 200, 318, 204), (334, 228, 336, 232), (310, 252, 314, 254), (296, 234, 298, 238), (330, 418, 332, 422), (310, 444, 312, 448), (317, 452, 319, 456), (320, 348, 324, 350), (312, 342, 316, 344), (348, 382, 350, 386), (147, 198, 149, 202), (177, 188, 179, 192), (168, 178, 170, 182), (152, 186, 156, 188), (178, 292, 182, 294), (175, 298, 179, 300), (136, 420, 140, 422), (125, 414, 129, 416), (233, 350, 237, 352), (278, 346, 282, 348), (227, 318, 231, 320), (284, 284, 286, 288), (239, 232, 243, 234), (314, 402, 316, 406), (284, 474, 286, 478), (314, 472, 318, 474), (302, 522, 306, 524), (308, 504, 310, 508), (318, 529, 320, 533), (370, 513, 372, 517), (368, 514, 370, 518), (374, 434, 376, 438), (340, 406, 344, 408), (376, 415, 378, 419), (387, 446, 391, 448), (390, 412, 392, 416), (370, 528, 372, 532), (374, 520, 376, 524), (370, 546, 372, 550), (302, 530, 304, 534), (372, 358, 376, 360), (378, 525, 380, 529), (378, 401, 380, 405), (317, 560, 321, 562), (318, 548, 322, 550), (344, 544, 346, 548), (376, 508, 380, 510), (356, 514, 360, 516), (376, 516, 378, 520), (417, 388, 421, 390), (386, 390, 388, 394), (412, 442, 416, 444), (408, 440, 412, 442), (400, 398, 404, 400), (444, 428, 446, 432), (448, 452, 452, 454), (428, 458, 430, 462), (432, 448, 436, 450), (442, 480, 446, 482), (462, 474, 464, 478), (454, 461, 456, 465), (416, 488, 418, 492), (434, 492, 436, 496), (472, 462, 476, 464), (482, 440, 486, 442), (484, 434, 486, 438), (472, 428, 476, 430), (483, 424, 487, 426), (479, 416, 483, 418), (496, 418, 498, 422), (490, 432, 494, 434), (450, 414, 452, 418), (524, 428, 528, 430), (393, 544, 397, 546), (506, 358, 508, 362), (508, 351, 510, 355), (511, 354, 515, 356), (520, 348, 522, 352), (524, 366, 528, 368), (516, 392, 518, 396), (512, 394, 516, 396), (505, 386, 509, 388), (488, 442, 492, 444), (526, 296, 530, 298), (532, 296, 536, 298), (542, 312, 544, 316), (538, 335, 540, 339), (526, 360, 530, 362), (500, 332, 502, 336), (501, 336, 505, 338), (534, 364, 538, 366), (402, 526, 404, 530), (422, 482, 424, 486), (425, 484, 427, 488), (425, 488, 429, 490), (256, 552, 260, 554), (220, 286, 222, 290), (224, 280, 226, 284), (478, 260, 480, 264), (162, 212, 166, 214), (228, 300, 230, 304), (198, 180, 202, 182), (231, 152, 233, 156), (183, 142, 185, 146), (148, 152, 150, 156), (352, 539, 356, 541), (482, 384, 484, 388), (498, 368, 500, 372), (522, 367, 524, 371), (460, 168, 462, 172), (422, 118, 424, 122), (252, 120, 254, 124), (256, 106, 258, 110), (158, 240, 162, 242), (118, 326, 122, 328), (206, 536, 208, 540), (381, 236, 384, 238), (160, 207, 162, 210), (246, 476, 248, 479), (160, 454, 163, 456), (232, 516, 235, 518), (90, 356, 92, 359), (510, 321, 512, 324), (182, 474, 185, 476), (162, 381, 164, 384), (245, 118, 248, 120), (304, 125, 306, 128), (341, 388, 344, 390), (102, 247, 104, 250), (124, 195, 126, 198), (160, 182, 162, 185), (168, 192, 170, 195), (177, 194, 180, 196), (262, 351, 264, 354), (215, 258, 218, 260), (217, 491, 220, 493), (222, 504, 225, 506), (374, 451, 376, 454), (370, 486, 372, 489), (372, 436, 374, 439), (390, 416, 392, 419), (410, 411, 412, 414), (444, 491, 446, 494), (486, 436, 489, 438), (491, 416, 494, 418), (482, 476, 484, 479), (498, 411, 500, 414), (210, 180, 212, 183), (245, 136, 248, 138), (175, 136, 178, 138), (250, 542, 253, 544), (498, 376, 500, 379), (246, 92, 248, 95), (172, 506, 175, 508), (170, 506, 172, 509), (150, 388, 152, 390), (109, 272, 111, 274), (115, 236, 117, 238), (554, 304, 556, 306), (492, 392, 494, 394), (156, 192, 158, 194), (525, 316, 527, 318), (236, 174, 238, 176), (518, 272, 520, 274), (126, 204, 128, 206), (240, 510, 242, 512), (286, 152, 288, 154), (214, 167, 216, 169), (434, 370, 436, 372), (236, 170, 238, 172), (226, 170, 228, 172), (144, 216, 146, 218), (288, 104, 290, 106), (132, 346, 134, 348), (462, 180, 464, 182), (485, 277, 487, 279), (240, 506, 242, 508), (466, 148, 468, 150), (118, 448, 120, 450), (206, 146, 208, 148), (110, 337, 112, 339), (216, 108, 218, 110), (214, 474, 216, 476), (200, 216, 202, 218), (136, 398, 138, 400), (278, 164, 280, 166), (134, 298, 136, 300), (390, 154, 392, 156), (320, 433, 322, 435), (302, 414, 304, 416), (342, 458, 344, 460), (344, 368, 346, 370), (354, 394, 356, 396), (100, 258, 102, 260), (104, 270, 106, 272), (105, 266, 107, 268), (94, 259, 96, 261), (108, 236, 110, 238), (100, 243, 102, 245), (113, 251, 115, 253), (156, 205, 158, 207), (143, 202, 145, 204), (149, 202, 151, 204), (204, 354, 206, 356), (322, 397, 324, 399), (266, 453, 268, 455), (262, 452, 264, 454), (322, 472, 324, 474), (309, 516, 311, 518), (287, 503, 289, 505), (216, 496, 218, 498), (270, 526, 272, 528), (327, 509, 329, 511), (329, 509, 331, 511), (315, 530, 317, 532), (338, 522, 340, 524), (382, 452, 384, 454), (366, 476, 368, 478), (372, 508, 374, 510), (389, 497, 391, 499), (385, 512, 387, 514), (373, 511, 375, 513), (364, 522, 366, 524), (388, 473, 390, 475), (394, 442, 396, 444), (326, 454, 328, 456), (358, 422, 360, 424), (391, 423, 393, 425), (355, 524, 357, 526), (372, 520, 374, 522), (293, 532, 295, 534), (294, 534, 296, 536), (299, 539, 301, 541), (354, 368, 356, 370), (380, 366, 382, 368), (384, 419, 386, 421), (314, 544, 316, 546), (355, 510, 357, 512), (420, 408, 422, 410), (403, 435, 405, 437), (421, 438, 423, 440), (456, 440, 458, 442), (435, 456, 437, 458), (396, 417, 398, 419), (415, 496, 417, 498), (400, 496, 402, 498), (396, 503, 398, 505), (438, 496, 440, 498), (448, 490, 450, 492), (443, 490, 445, 492), (424, 468, 426, 470), (474, 465, 476, 467), (488, 439, 490, 441), (487, 415, 489, 417), (488, 416, 490, 418), (516, 442, 518, 444), (508, 356, 510, 358), (516, 344, 518, 346), (520, 346, 522, 348), (526, 355, 528, 357), (525, 362, 527, 364), (519, 394, 521, 396), (498, 447, 500, 449), (542, 272, 544, 274), (530, 284, 532, 286), (532, 322, 534, 324), (542, 320, 544, 322), (505, 341, 507, 343), (428, 518, 430, 520), (420, 510, 422, 512), (384, 523, 386, 525), (385, 521, 387, 523), (410, 507, 412, 509), (222, 531, 224, 533), (232, 134, 234, 136), (246, 138, 248, 140), (162, 209, 164, 211), (192, 178, 194, 180), (222, 201, 224, 203), (268, 533, 270, 535), (498, 380, 500, 382), (464, 168, 466, 170), (244, 114, 246, 116), (221, 144, 223, 146), (252, 90, 254, 92), (140, 480, 142, 482), (142, 488, 144, 490), (278, 296, 280, 296)
